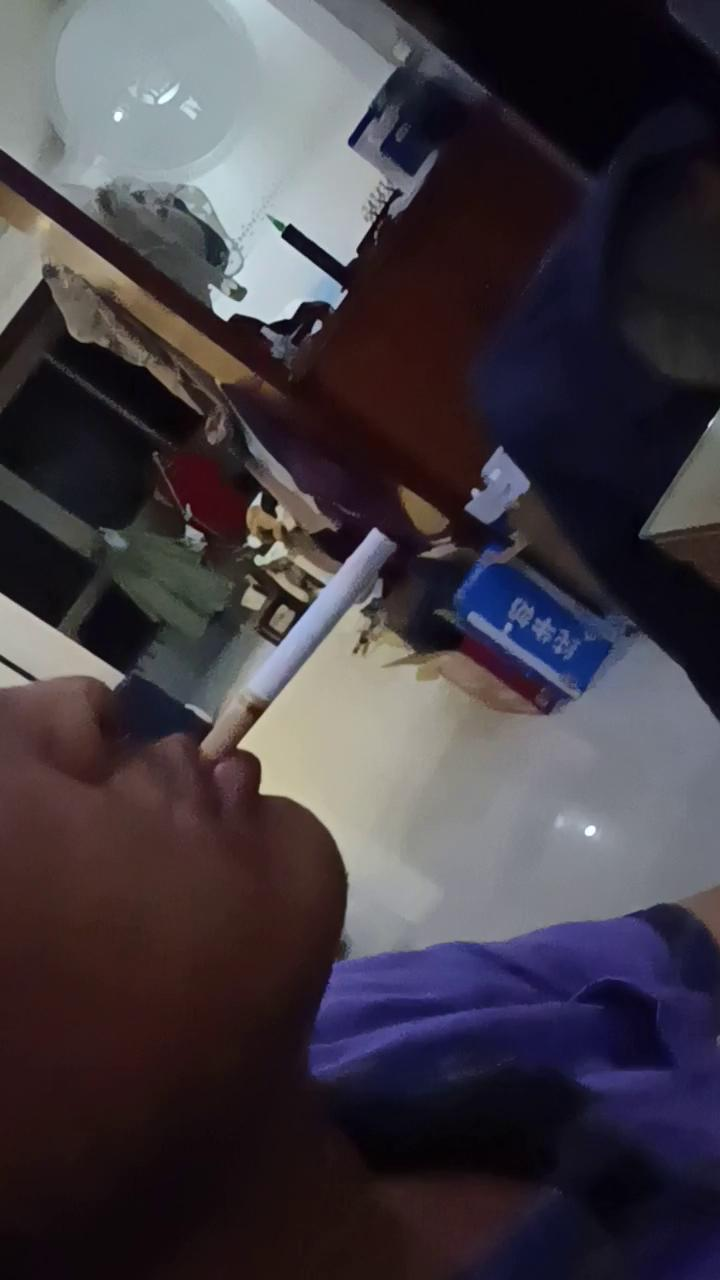smoke: (195, 524, 402, 766)
